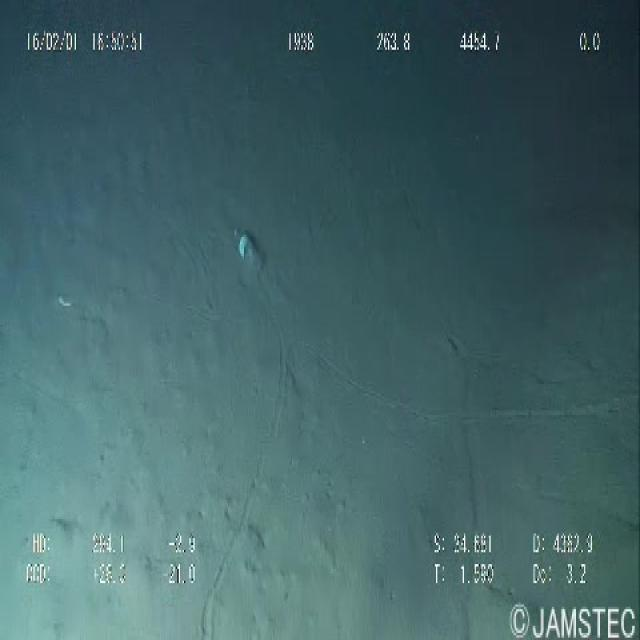plastic: (225, 216, 280, 282)
